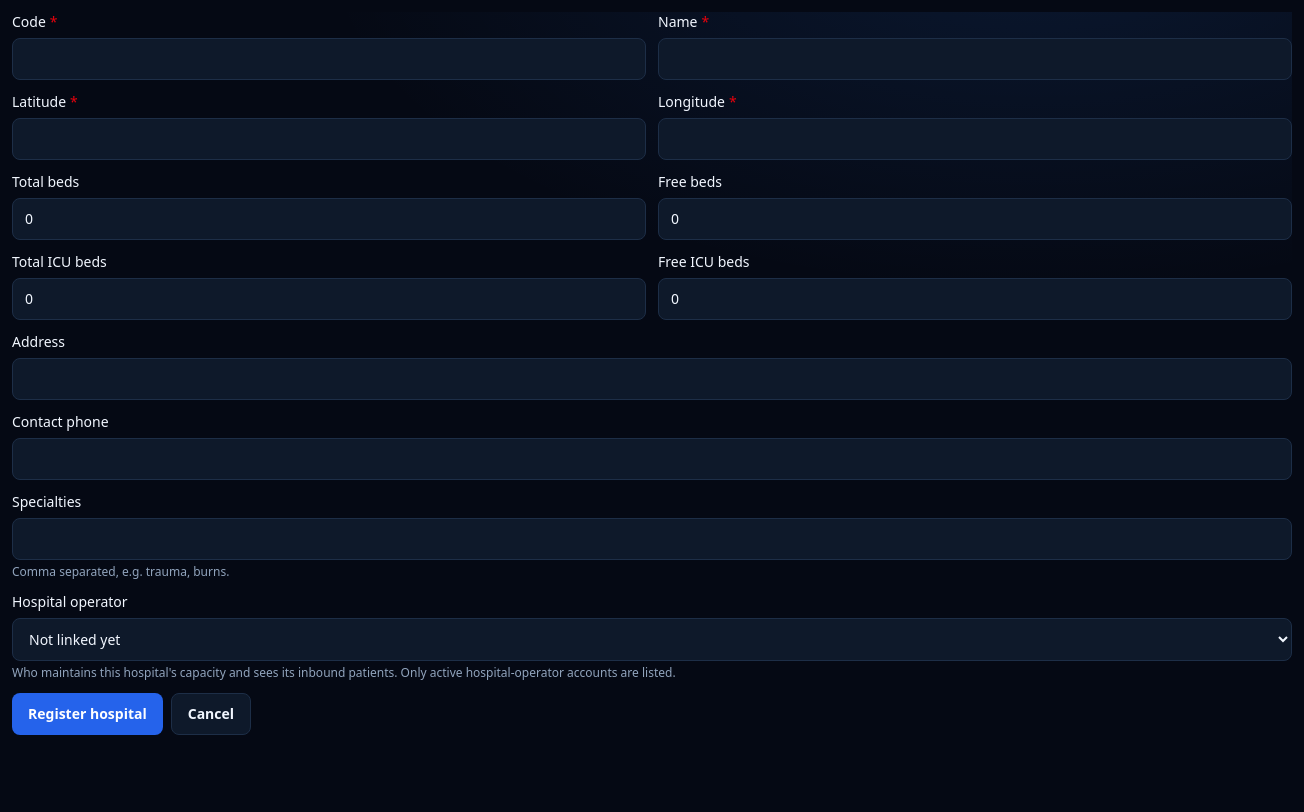
Test: HospitalRegisterForm › shows the server's message for a duplicate code
In the field labelled "Code*": (329,59) [12,38,646,80], type "GH-9"
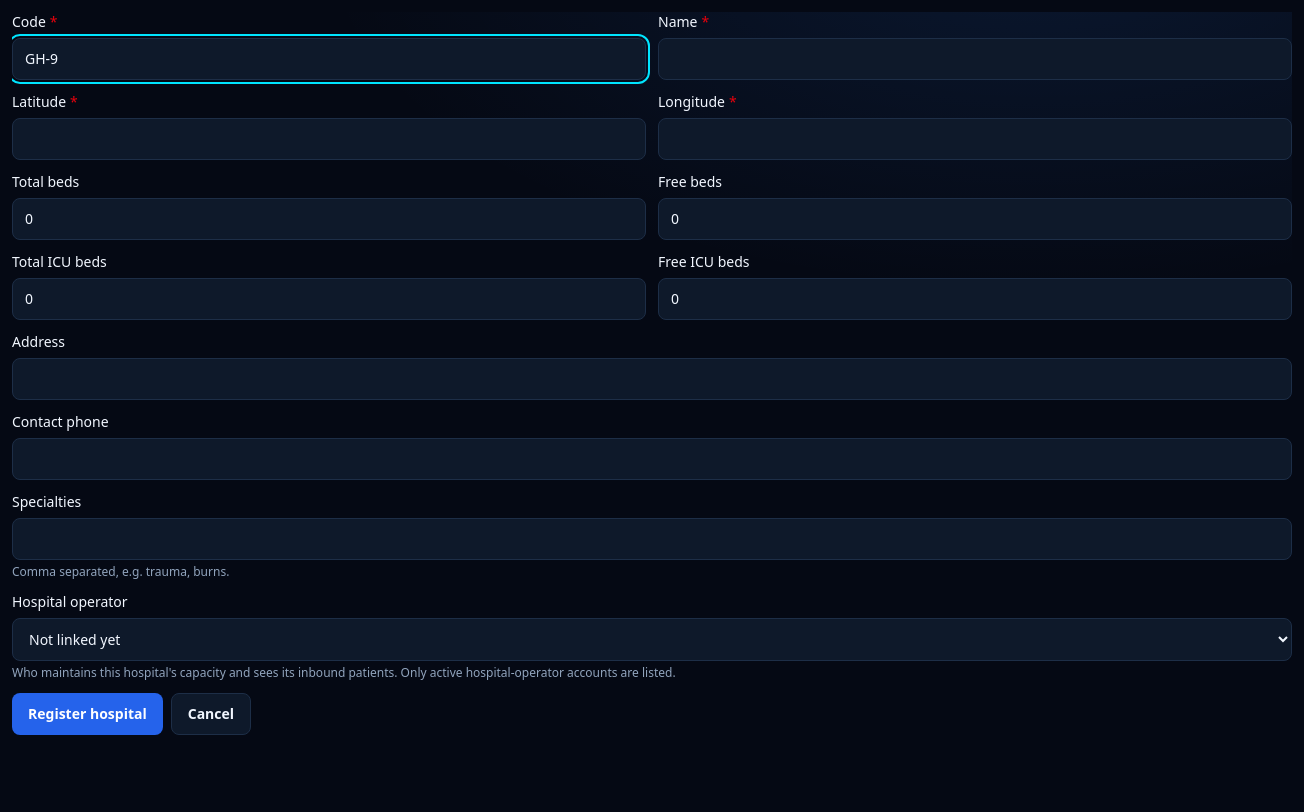
In the field labelled "Name*": (975,59) [658,38,1292,80], type "General"
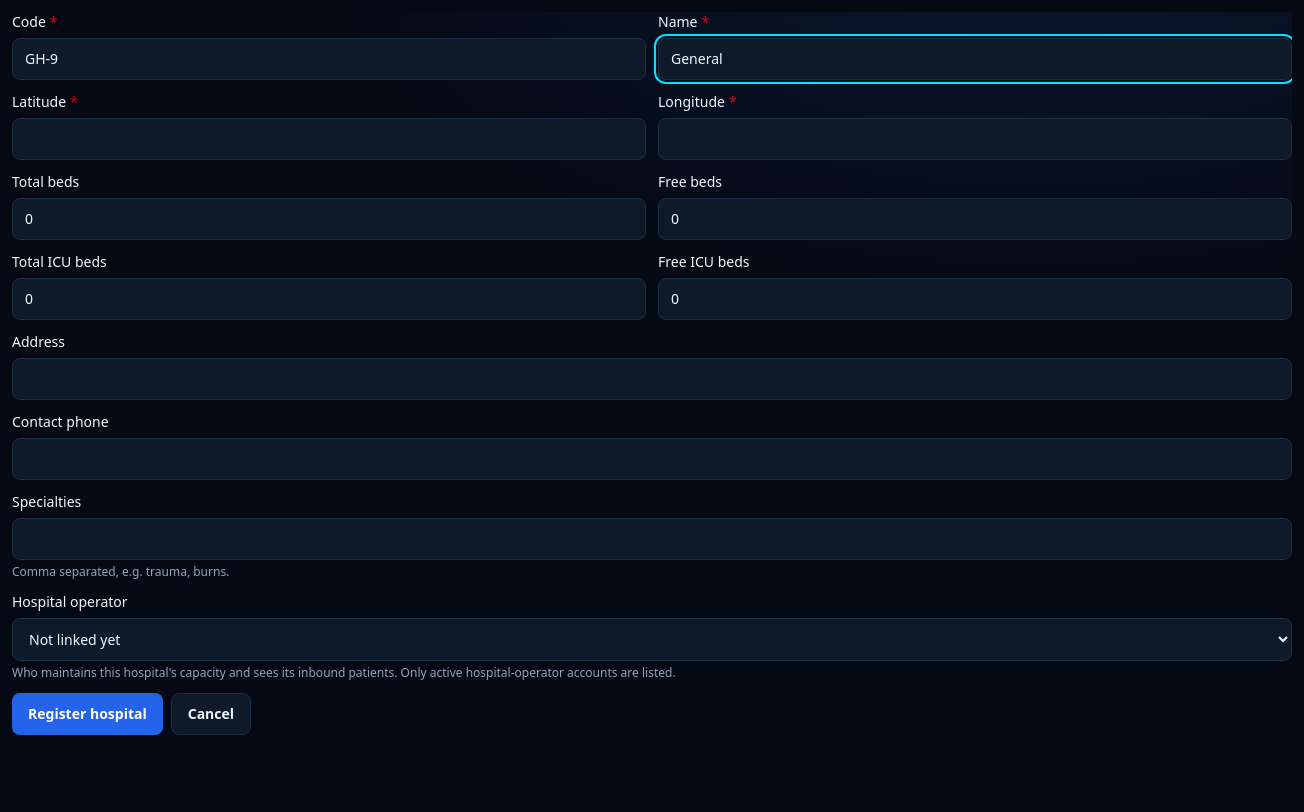
In the field labelled "Latitude*": (329,139) [12,118,646,160], type "13.1"
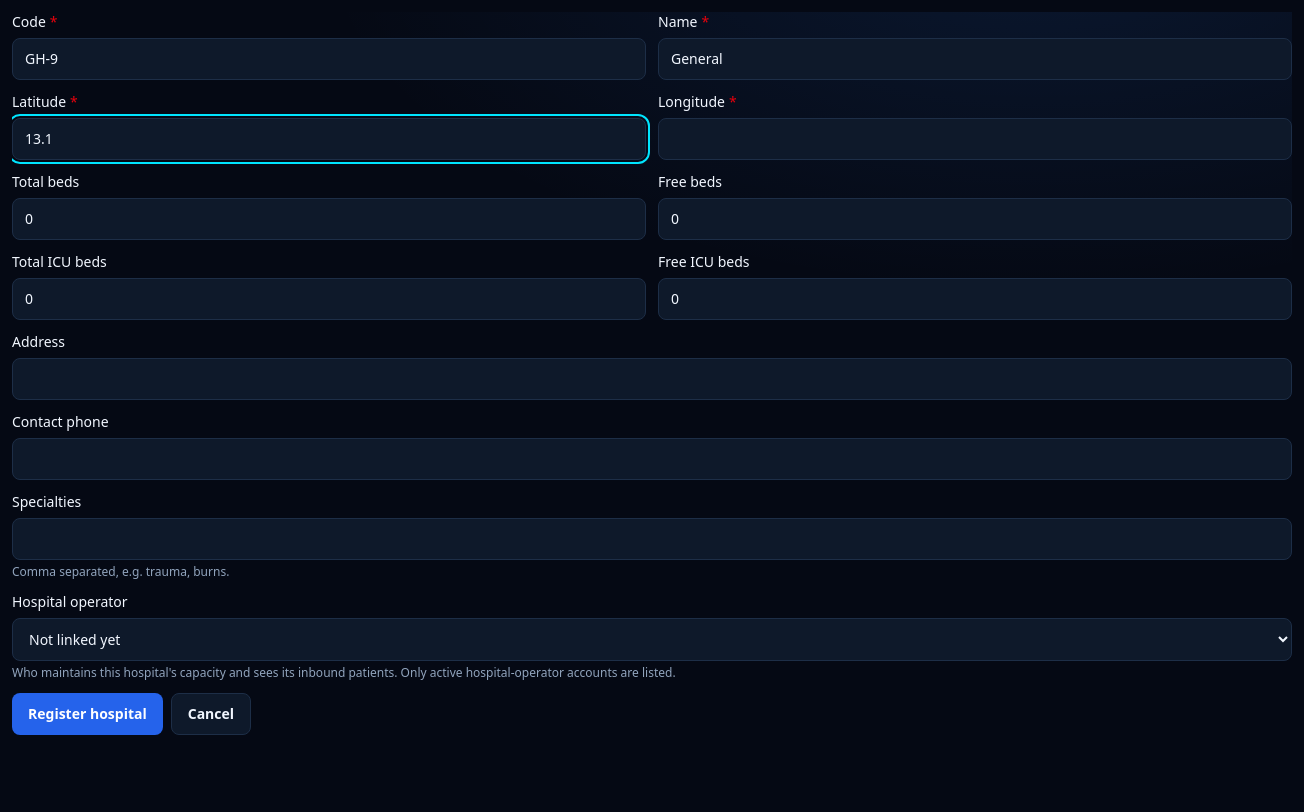
In the field labelled "Longitude*": (975,139) [658,118,1292,160], type "80.2"
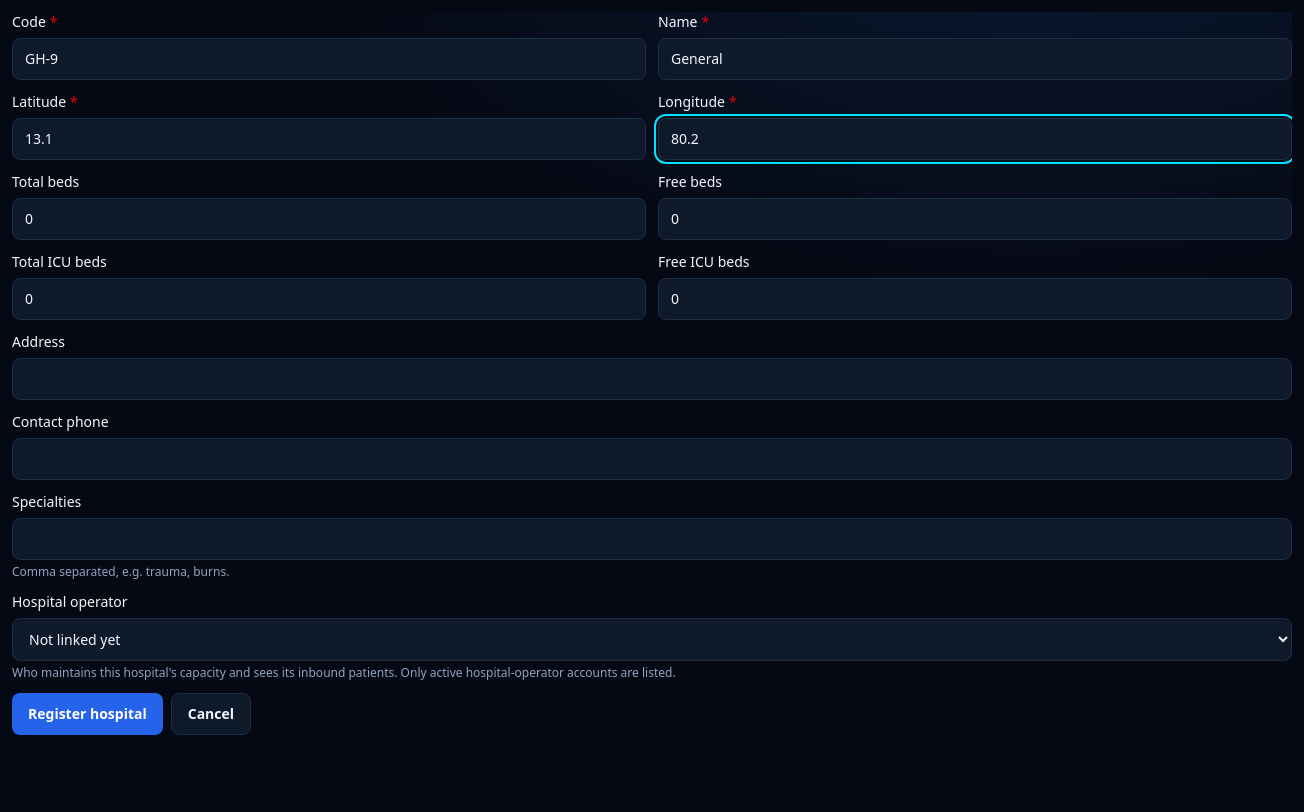
Click the button "Register hospital": (87,714) [12,693,163,735]
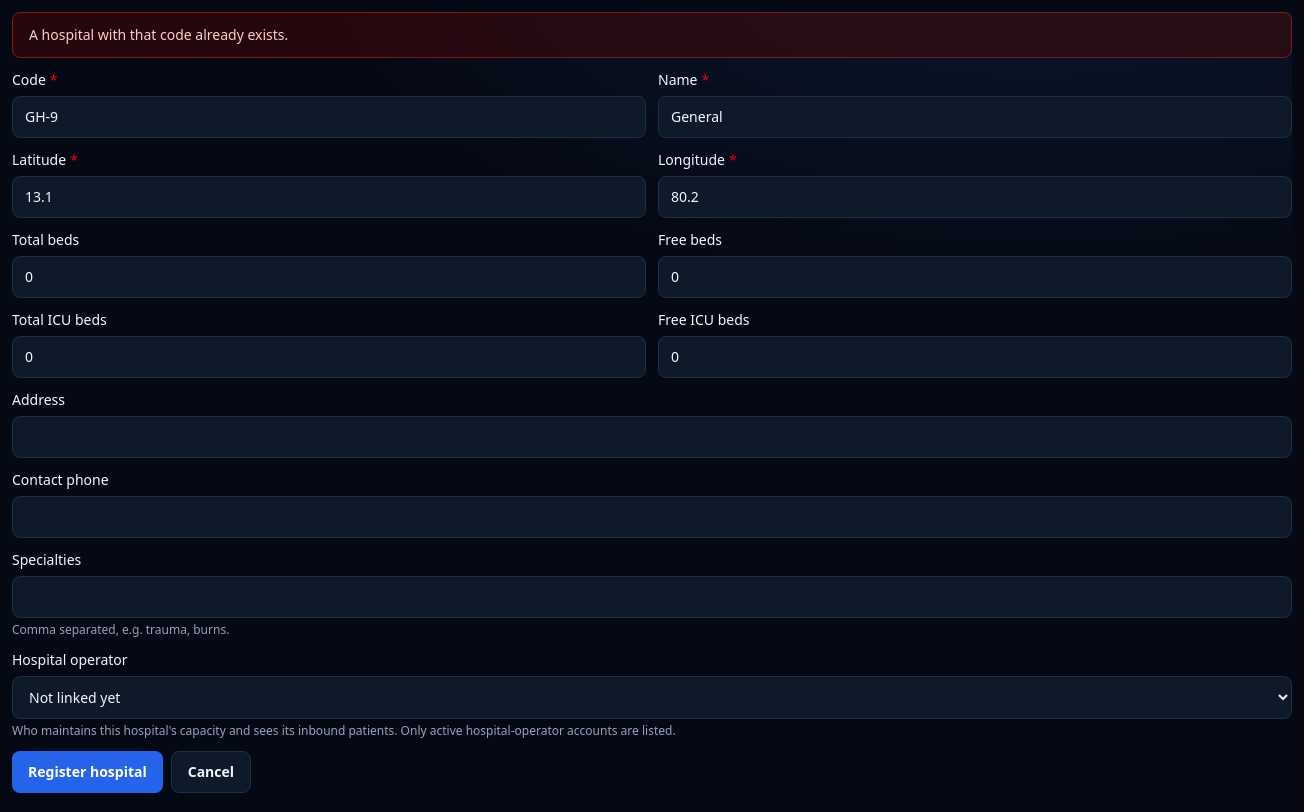
Expected: the message shows "already exists", [29,25,288,44]
